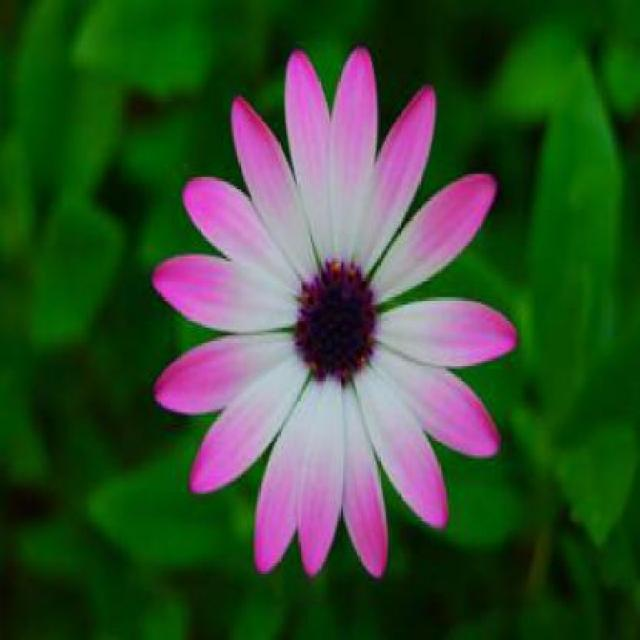Flower: (153, 46, 519, 577), (297, 263, 375, 382)
